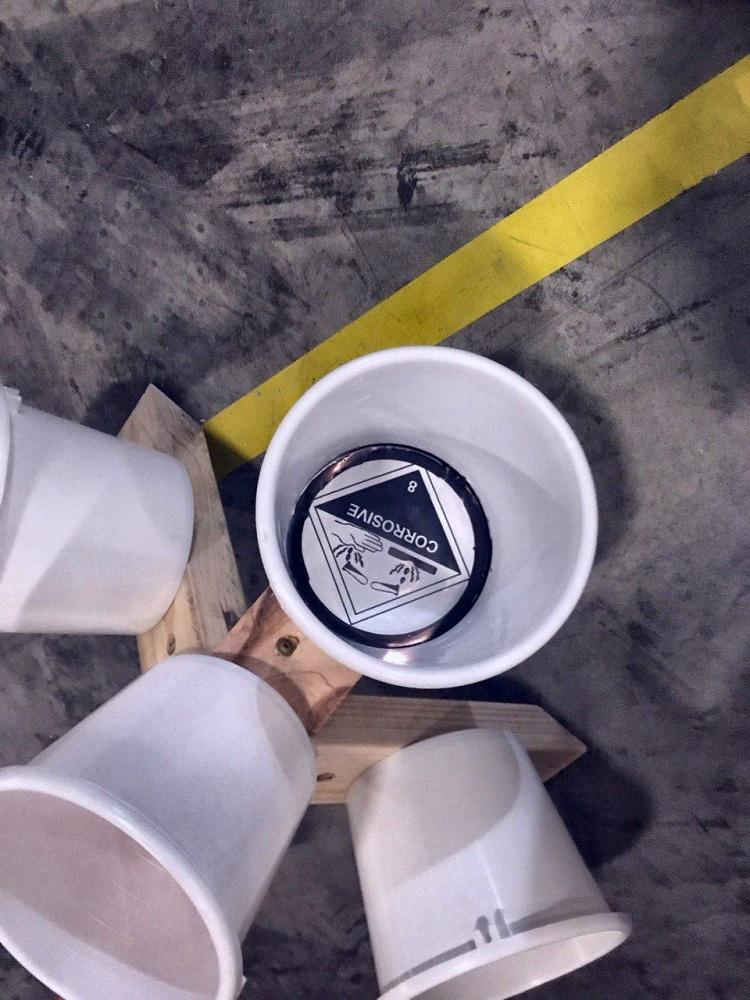corrosive: (302, 458, 473, 631)
